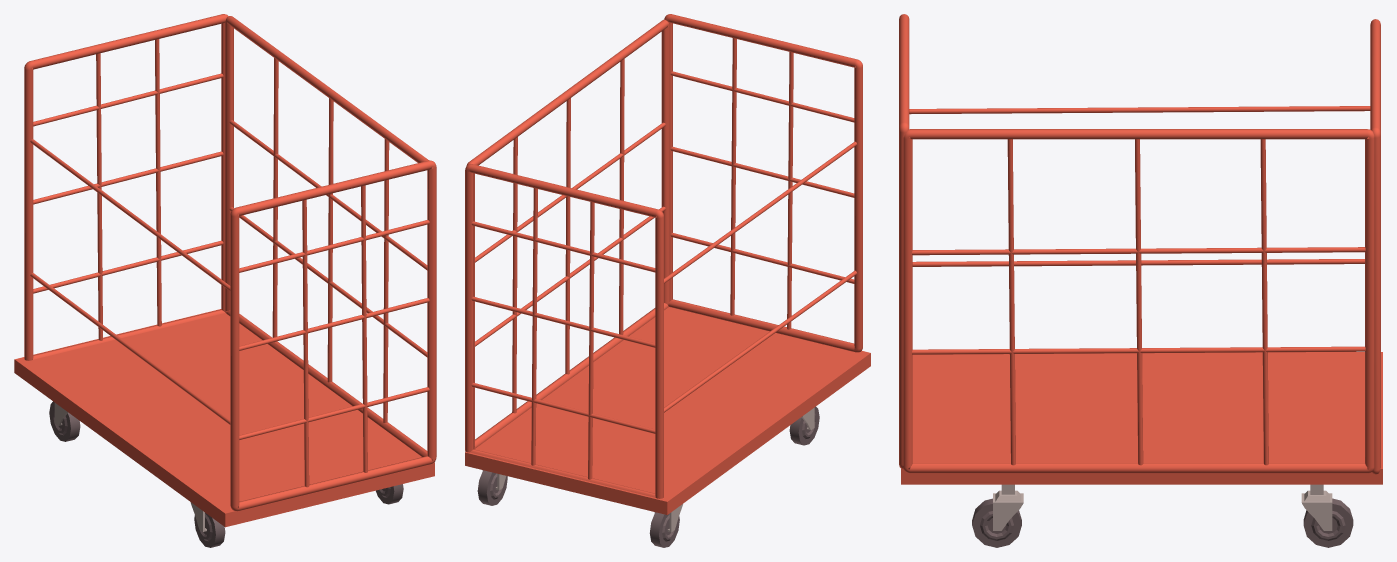
File: Rolltainer.fbx
The picture shows the model from 3 angles, left to right: view 1: azimuth 30°, elevation 25°; view 2: azimuth 150°, elevation 25°; view 3: azimuth 270°, elevation 25°; orthographic projection. The views are drawn at different scales.
Visible parts, largest first — view 1: Rolltainer; view 2: Rolltainer; view 3: Rolltainer.
Part boxes in pixels (x1,y1,x2,y2): Rolltainer: (14,14,436,547); Rolltainer: (465,14,870,547); Rolltainer: (899,14,1382,547).
Bounding box in the file's own units: 81.52 × 135 × 140.
